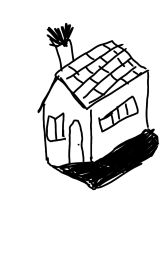closed_window: (96, 88, 144, 138), (43, 112, 70, 143)
door: (63, 117, 88, 170)
roof: (36, 42, 154, 109)
shadow: (42, 128, 161, 193)
smoking_chimney: (32, 20, 87, 69)
wall: (85, 67, 156, 163)
